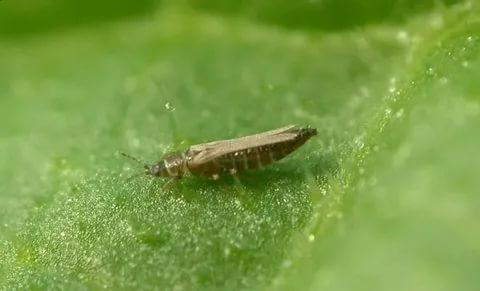tiny_pests: (109, 104, 326, 213)
